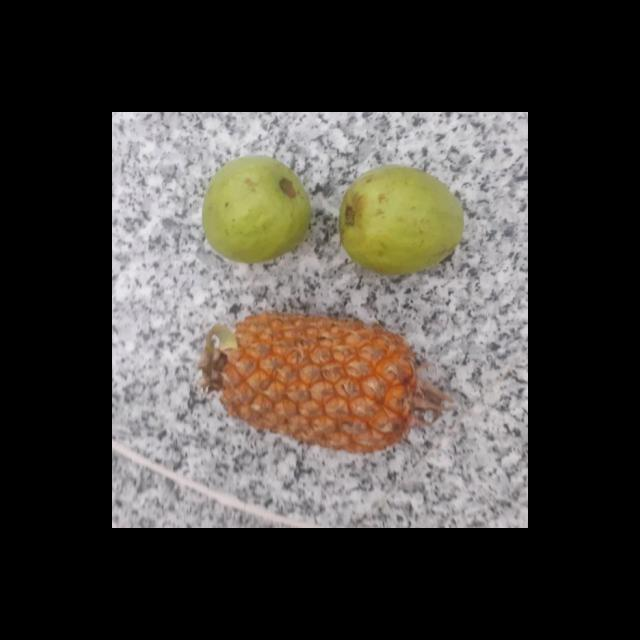guava: (333, 166, 464, 272), (196, 156, 314, 263)
pineapple: (190, 312, 450, 458)
